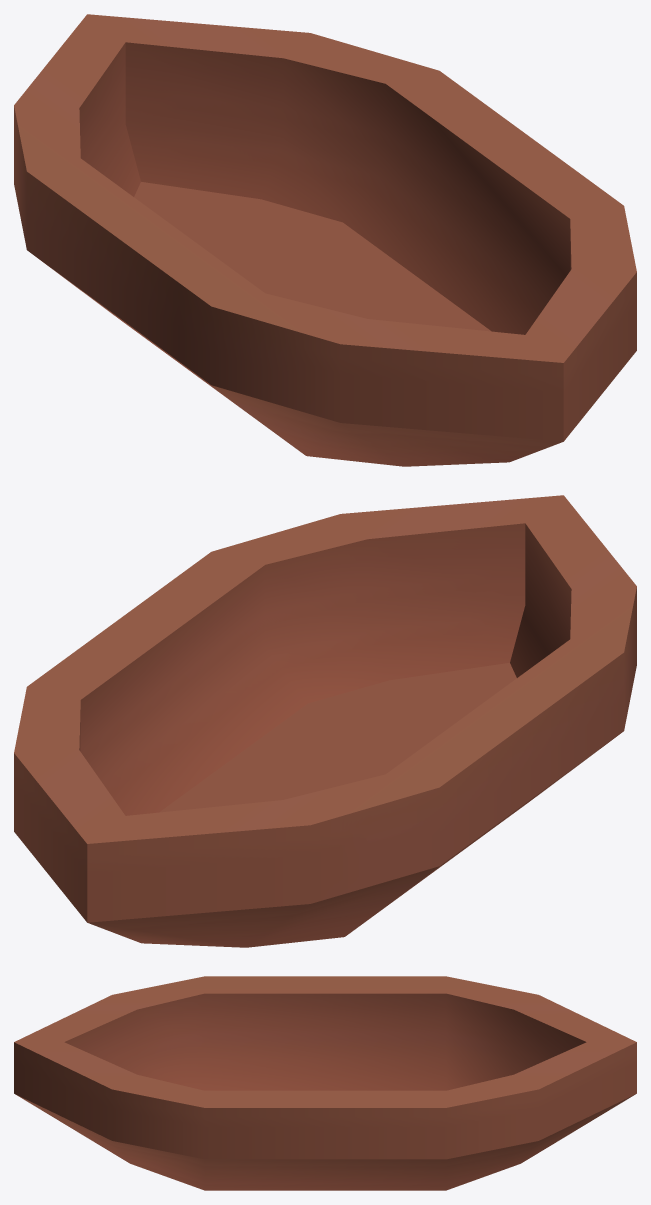
Rendered from hex_boat.glb.
The picture shows the model from 3 angles, top to bottom: view 1: azimuth 30°, elevation 25°; view 2: azimuth 150°, elevation 25°; view 3: azimuth 270°, elevation 25°; orthographic projection. The views are drawn at different scales.
Parts seen in each view (by area): view 1: boat; view 2: boat; view 3: boat.
Part boxes in pixels (x1,y1,x2,y2): boat: (14,14,636,466); boat: (14,495,636,947); boat: (14,976,636,1190).
Size of the model in its own units: 0.3 by 0.12 by 0.6.
1 material, 1 textured.
